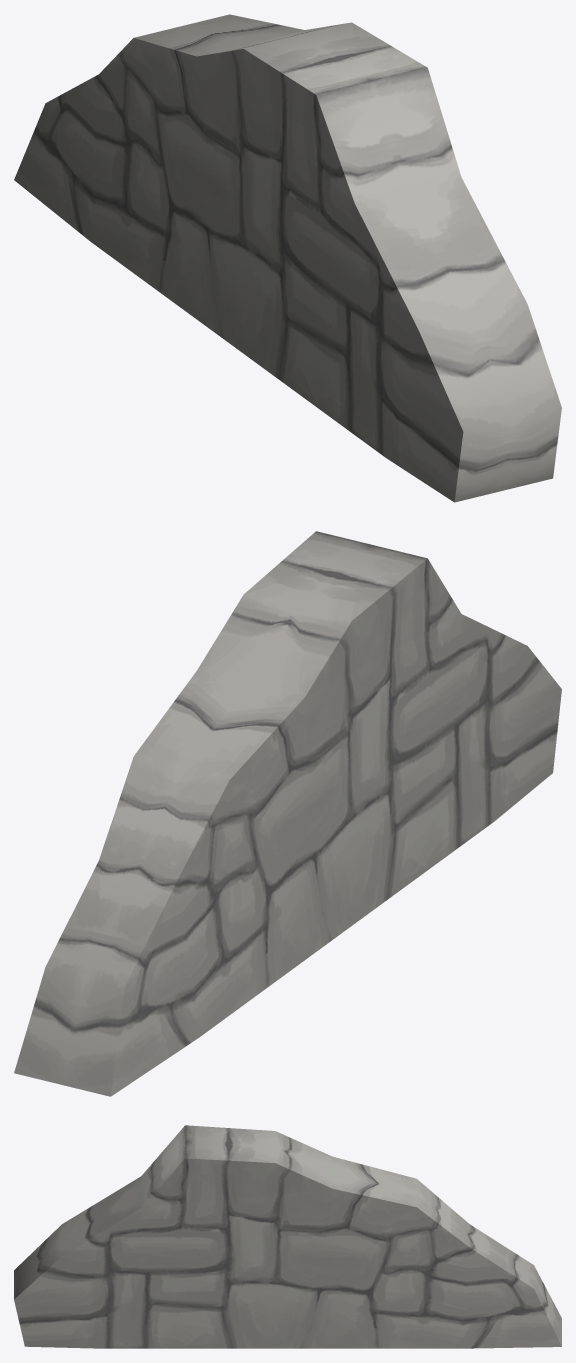
The model's file is RuinedWall01_Geo.fbx.
The picture shows the model from 3 angles, top to bottom: view 1: azimuth 30°, elevation 25°; view 2: azimuth 150°, elevation 25°; view 3: azimuth 270°, elevation 25°; orthographic projection. The views are drawn at different scales.
Parts seen in each view (by area): view 1: RuinedWall01_Geo; view 2: RuinedWall01_Geo; view 3: RuinedWall01_Geo.
Boxes of the visible parts, box(x1,y1,x2,y2) form: RuinedWall01_Geo: box(14, 14, 561, 502); RuinedWall01_Geo: box(14, 531, 561, 1096); RuinedWall01_Geo: box(14, 1125, 561, 1348).
Bounding box in the file's own units: 29.21 × 78.45 × 204.
